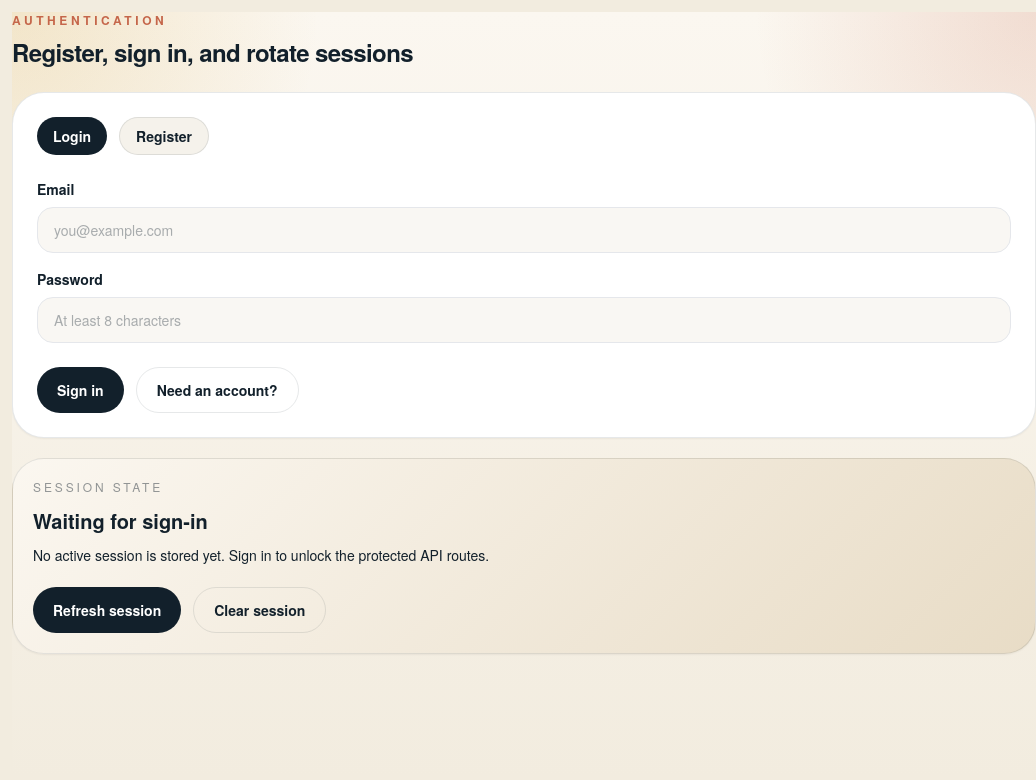
Test: AuthPage › logs in and redirects to the links page
In the field labelled "Email": {"x": 524, "y": 230} [37,207,1011,253], type "owner@example.com"
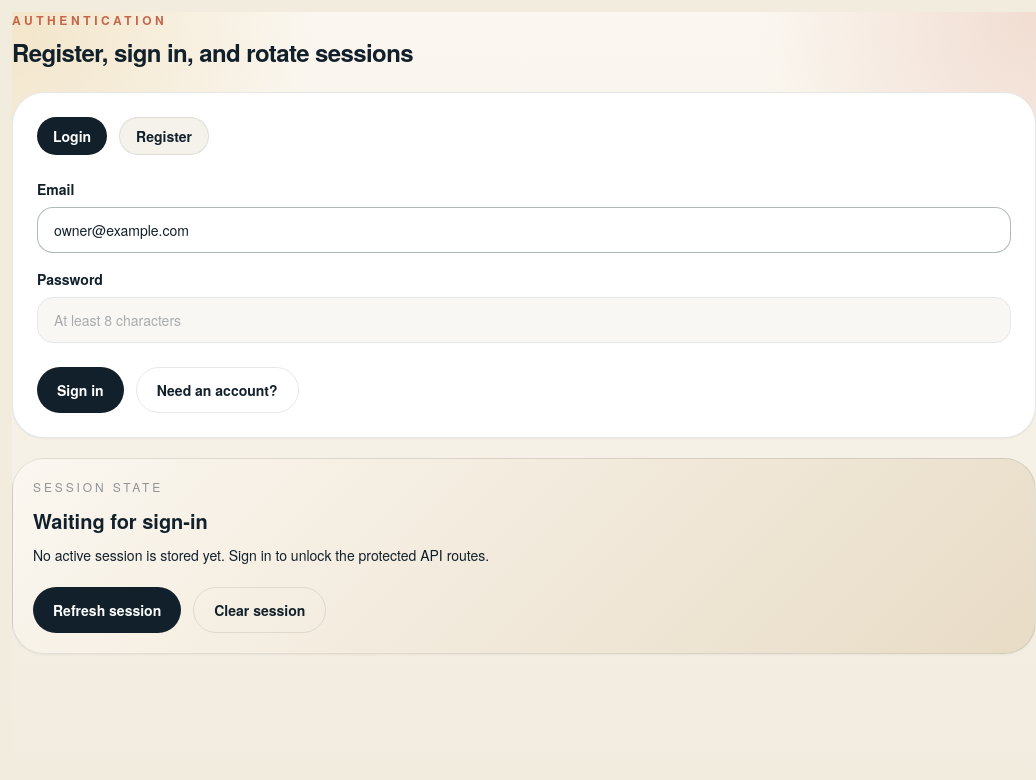
In the password field labelled "Password": {"x": 524, "y": 320} [37,297,1011,343], type "Password123"
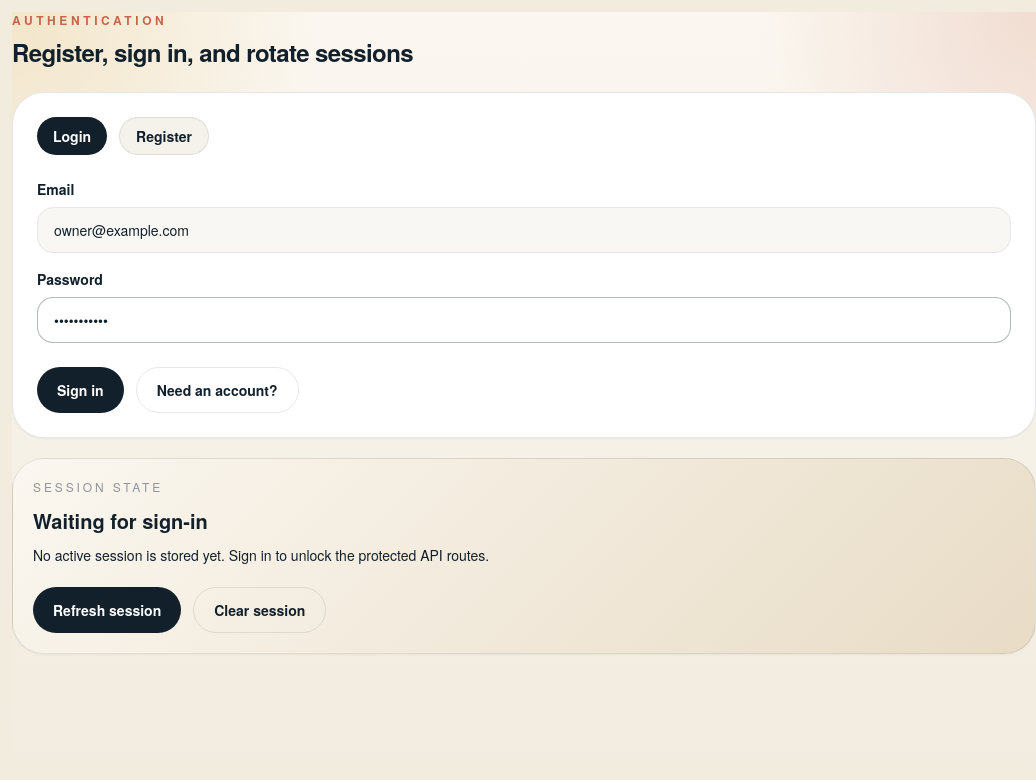
Click the button "Sign in": {"x": 80, "y": 390} [37,367,124,413]
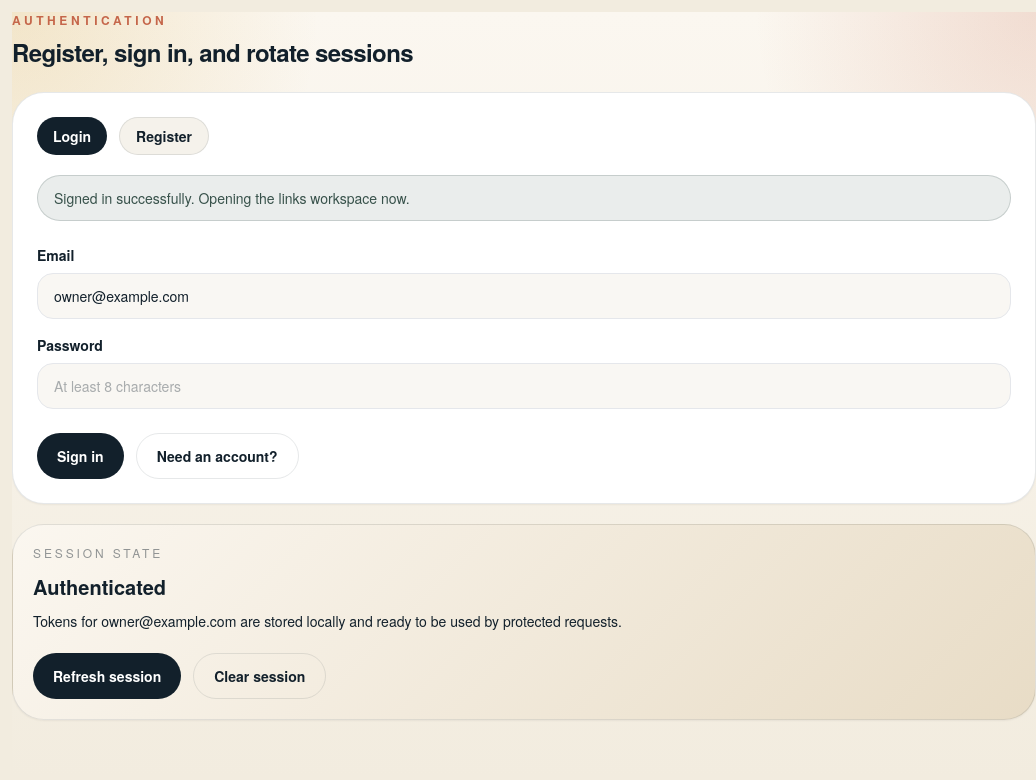
Now the text "Signed in successfully. Opening the links workspace now." is shown, box [37,175,1011,221]
